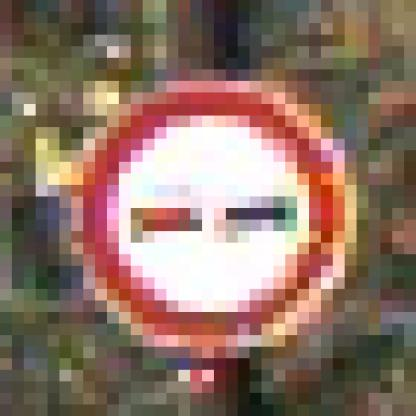No Overtaking: (61, 71, 358, 360)
